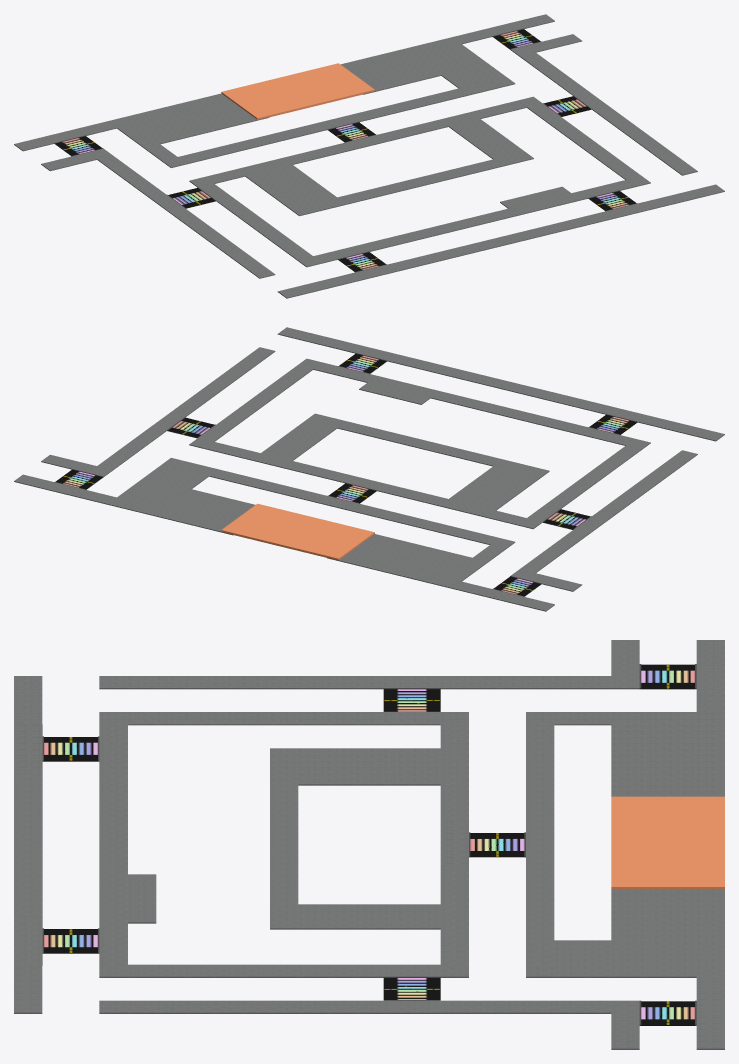
Rendered from Walkable.fbx.
The picture shows the model from 3 angles, top to bottom: view 1: azimuth 30°, elevation 25°; view 2: azimuth 150°, elevation 25°; view 3: azimuth 270°, elevation 25°; orthographic projection. The views are drawn at different scales.
Parts seen in each view (by area): view 1: Walkable; view 2: Walkable; view 3: Walkable.
Part boxes in pixels (box(x1,y1,x2,y2)): Walkable: box(14, 14, 724, 298); Walkable: box(14, 327, 724, 611); Walkable: box(14, 640, 724, 1049).
Size of the model in its own units: 136 by 0.6 by 100.
